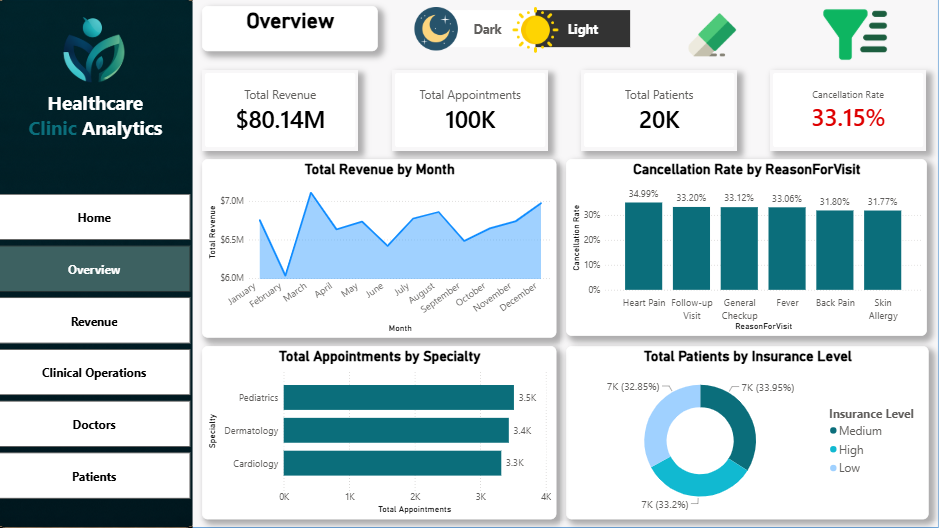

What the dashboard file says about the page in this screenshot:
{"tool":"powerbi","page":{"name":"Overview","canvas":[1600,900],"ordinal":1},"visuals":[{"type":"shape","box":[0,0,1600.2,900],"z":0},{"type":"image","box":[0,0,331.2,900],"z":1000},{"type":"cardVisual","fields":{"Data":["DimMeasure.Total Revenue"]},"box":[347.4,120.6,266.4,136.8],"z":2000},{"type":"cardVisual","fields":{"Data":["DimMeasure.Total Appointments"]},"box":[669.6,120.6,266.4,136.8],"z":3000},{"type":"cardVisual","fields":{"Data":["DimMeasure.Total Patients"]},"box":[991.8,120.6,266.4,136.8],"z":4000},{"type":"cardVisual","fields":{"Data":["DimMeasure.Cancellation Rate"]},"box":[1314,120.6,266.4,136.8],"z":5000},{"type":"slicer","fields":{"Values":["ColorTheme.Mode"]},"box":[727.2,12.6,372.6,77.4],"z":6000},{"type":"donutChart","fields":{"Category":["DimPatient.CoverageLevel"],"Y":["DimMeasure.Total Patients"]},"box":[966.6,590.4,617.4,295.2],"z":7000},{"type":"areaChart","fields":{"Category":["DimDate.YearNumber","DimDate.MonthName"],"Y":["DimMeasure.Total Revenue"]},"box":[347.4,271.8,603,304.2],"z":8000},{"type":"textbox","title":"Overview","box":[347.4,12.6,298.8,77.4],"z":9000},{"type":"image","box":[693,14.4,106.2,73.8],"z":10000},{"type":"image","box":[868.8,13,89.3,78.1],"z":11000},{"type":"image","box":[1312.7,0,287.3,121.1],"z":12000},{"type":"image","box":[1118.2,20.2,195,80.7],"z":14000},{"type":"textbox","box":[0,147.6,331.2,171],"z":15000},{"type":"pageNavigator","box":[0,331.2,327.6,518.4],"z":16000},{"type":"image","box":[0,0,327.6,189],"z":17000},{"type":"clusteredColumnChart","fields":{"Category":["DimAppointment.ReasonForVisit"],"Y":["DimMeasure.Cancellation Rate"]},"box":[966.6,271.8,613.8,300.6],"z":18000},{"type":"clusteredBarChart","fields":{"Category":["DimDoctor.Specialty"],"Y":["DimMeasure.Total Appointments"]},"box":[347.4,590.4,603,295.2],"z":19000}]}

Visuals, with their boxes in screenshot pixels (x1, y1, x2, y2), scaled from the page's 1600x900 canvas onto the 940x528 screenshot:
shape: 0, 0, 939, 527
image: 0, 0, 195, 527
cardVisual - DimMeasure.Total Revenue: 204, 71, 361, 151
cardVisual - DimMeasure.Total Appointments: 393, 71, 550, 151
cardVisual - DimMeasure.Total Patients: 583, 71, 739, 151
cardVisual - DimMeasure.Cancellation Rate: 772, 71, 928, 151
slicer - ColorTheme.Mode: 427, 7, 646, 53
donutChart - DimPatient.CoverageLevel x DimMeasure.Total Patients: 568, 346, 931, 520
areaChart - DimDate.YearNumber x DimDate.MonthName: 204, 159, 558, 338
"Overview" textbox: 204, 7, 380, 53
image: 407, 8, 470, 52
image: 510, 8, 563, 53
image: 771, 0, 939, 71
image: 657, 12, 772, 59
textbox: 0, 87, 195, 187
pageNavigator: 0, 194, 192, 498
image: 0, 0, 192, 111
clusteredColumnChart - DimAppointment.ReasonForVisit x DimMeasure.Cancellation Rate: 568, 159, 928, 336
clusteredBarChart - DimDoctor.Specialty x DimMeasure.Total Appointments: 204, 346, 558, 520
